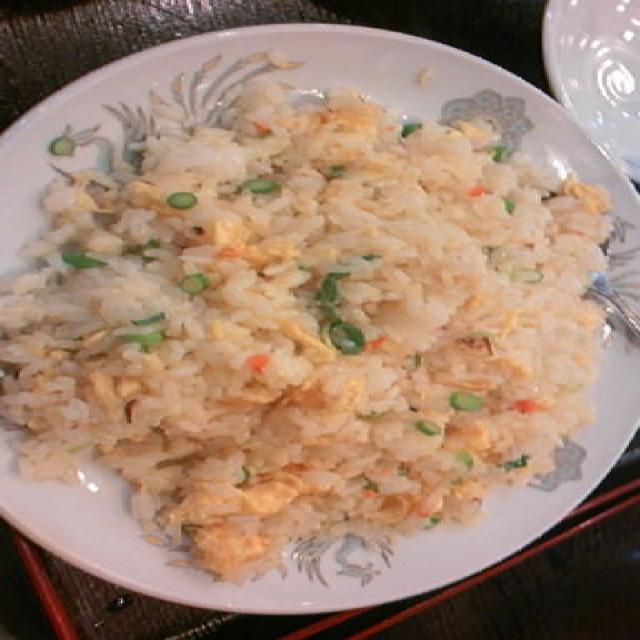米饭主食: (13, 93, 640, 596)
